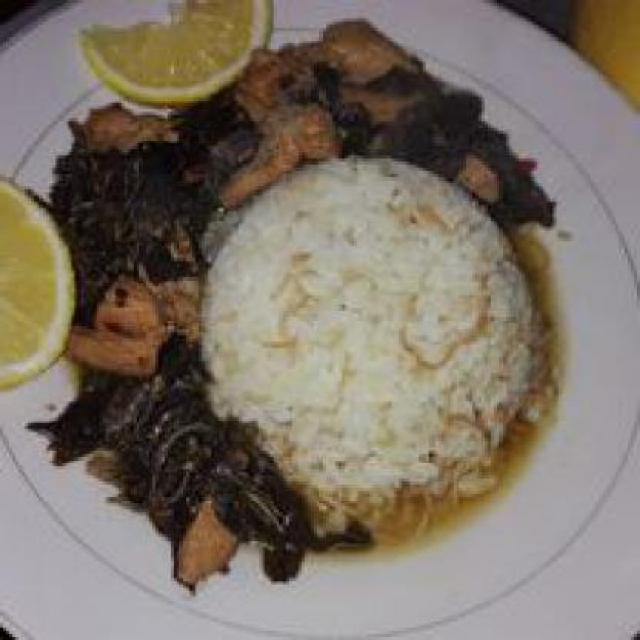fried rice: (212, 152, 540, 506)
molokhia: (38, 21, 534, 582)
